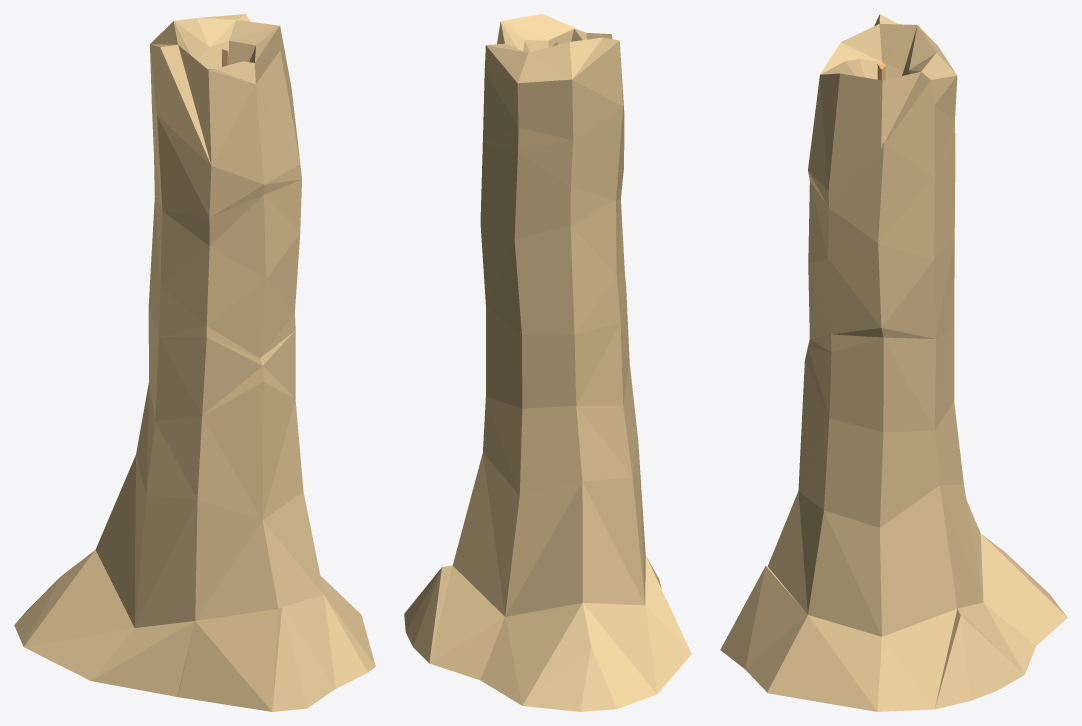
The model's file is SFHW_Candle_002.fbx.
3 renders of one model, left to right at view 1: azimuth 30°, elevation 25°; view 2: azimuth 150°, elevation 25°; view 3: azimuth 270°, elevation 25°, orthographic. The views are drawn at different scales.
Visible parts, largest first — view 1: SFHW_Candle_002; view 2: SFHW_Candle_002; view 3: SFHW_Candle_002.
Boxes of the visible parts, x1,y1,x2,y2 form: SFHW_Candle_002: (14, 14, 375, 711); SFHW_Candle_002: (404, 14, 691, 711); SFHW_Candle_002: (720, 14, 1067, 711).
Bounding box in the file's own units: 19.82 × 41.28 × 21.19.
